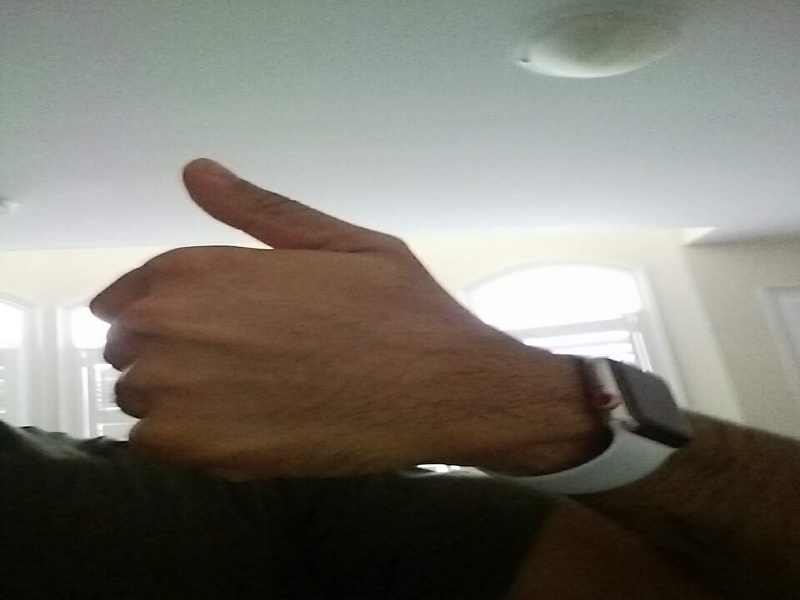thumbup: (84, 159, 490, 487)
